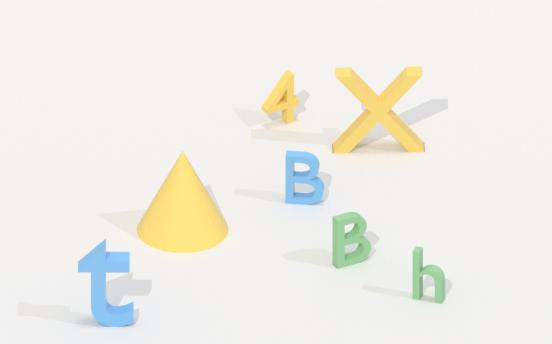4: (260, 64, 304, 127)
b: (282, 145, 327, 209), (326, 210, 372, 272)
h: (407, 243, 447, 308)
non: (133, 146, 231, 253)
t: (75, 237, 138, 327)
x: (329, 60, 430, 161)
